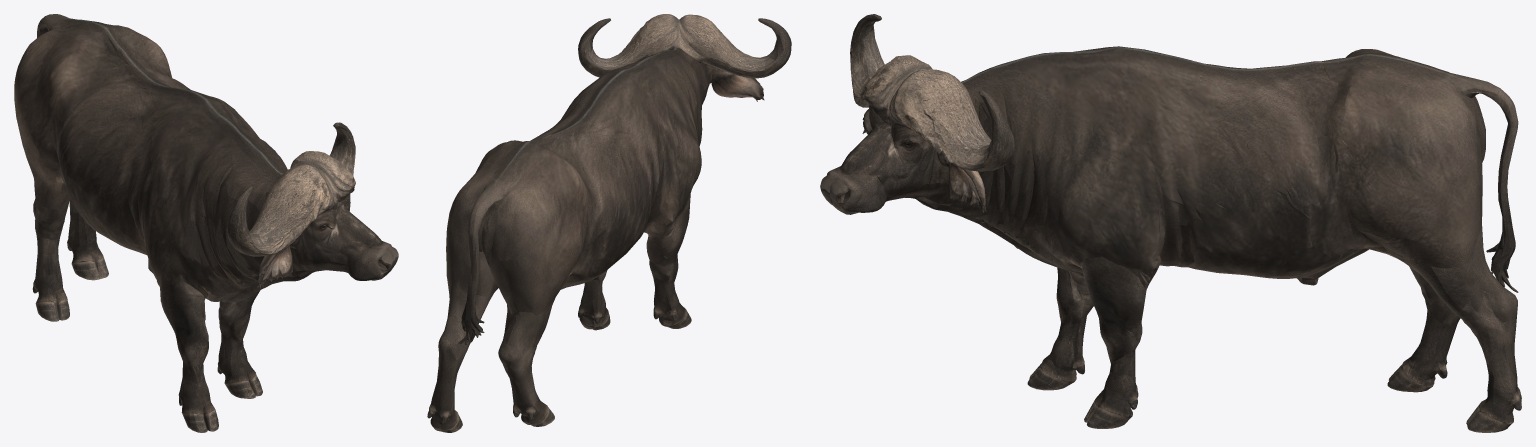
The model's file is african-buffalo.glb.
The picture shows the model from 3 angles, left to right: view 1: azimuth 30°, elevation 25°; view 2: azimuth 150°, elevation 25°; view 3: azimuth 270°, elevation 25°; orthographic projection. The views are drawn at different scales.
Size of the model in its own units: 0.6759 by 1.06 by 1.9.
1 material, 1 textured.
